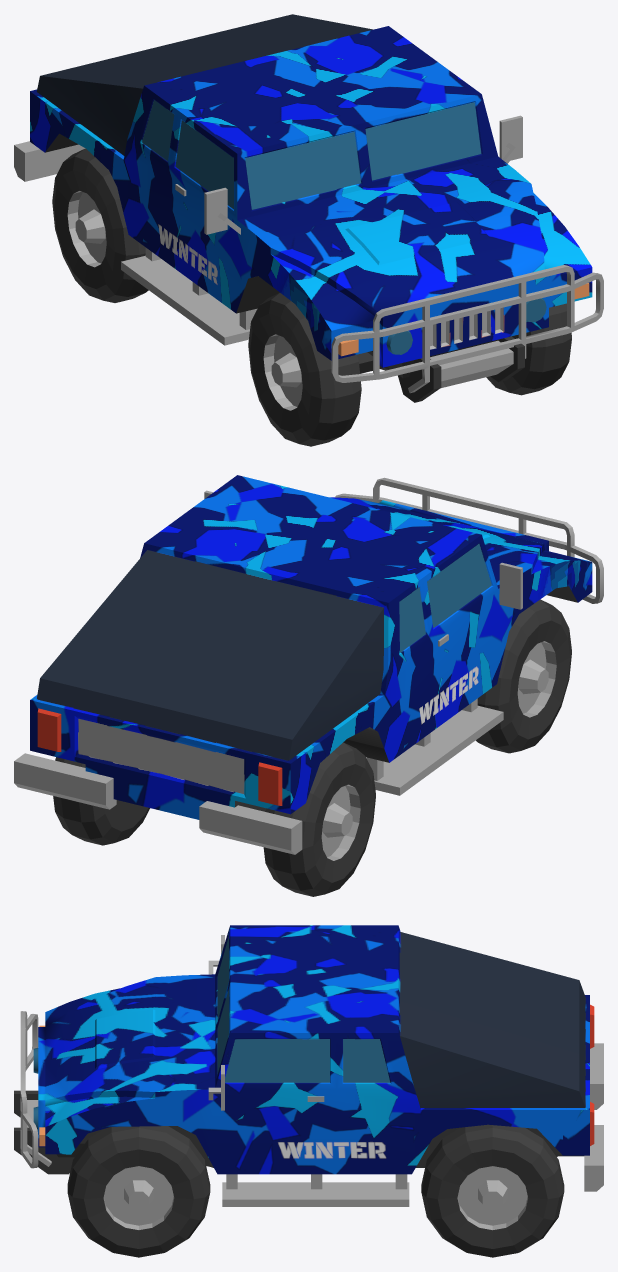
Rendered from bluebig.fbx.
3 renders of one model, top to bottom at view 1: azimuth 30°, elevation 25°; view 2: azimuth 150°, elevation 25°; view 3: azimuth 270°, elevation 25°, orthographic. The views are drawn at different scales.
Parts seen in each view (by area): view 1: body, bodypart_up, wheel_FR, wheel_RR, wheel_FL, bodypart_right, bodypart_down; view 2: body, bodypart_up, bodypart_down, wheel_RR, wheel_FR, wheel_RL, bodypart_right; view 3: body, bodypart_up, wheel_RL, wheel_FL, bodypart_down, bodypart_left.
Part boxes in pixels (bbox=[...]): body: bbox=[121, 26, 603, 402]; bodypart_up: bbox=[36, 14, 372, 155]; wheel_FR: bbox=[248, 292, 361, 446]; wheel_RR: bbox=[52, 148, 148, 302]; wheel_FL: bbox=[486, 303, 571, 395]; bodypart_right: bbox=[45, 101, 124, 211]; bodypart_down: bbox=[14, 89, 85, 181]; body: bbox=[140, 475, 603, 811]; bodypart_up: bbox=[37, 550, 383, 760]; bodypart_down: bbox=[14, 695, 305, 854]; wheel_RR: bbox=[263, 742, 375, 896]; wheel_FR: bbox=[476, 599, 571, 753]; wheel_RL: bbox=[53, 757, 149, 845]; bodypart_right: bbox=[302, 694, 384, 802]; body: bbox=[14, 925, 558, 1206]; bodypart_up: bbox=[399, 932, 585, 1107]; wheel_RL: bbox=[421, 1124, 564, 1257]; wheel_FL: bbox=[67, 1126, 210, 1257]; bodypart_down: bbox=[558, 995, 603, 1191]; bodypart_left: bbox=[420, 1108, 562, 1157].
Size of the model in its own units: 313 by 238 by 560.
